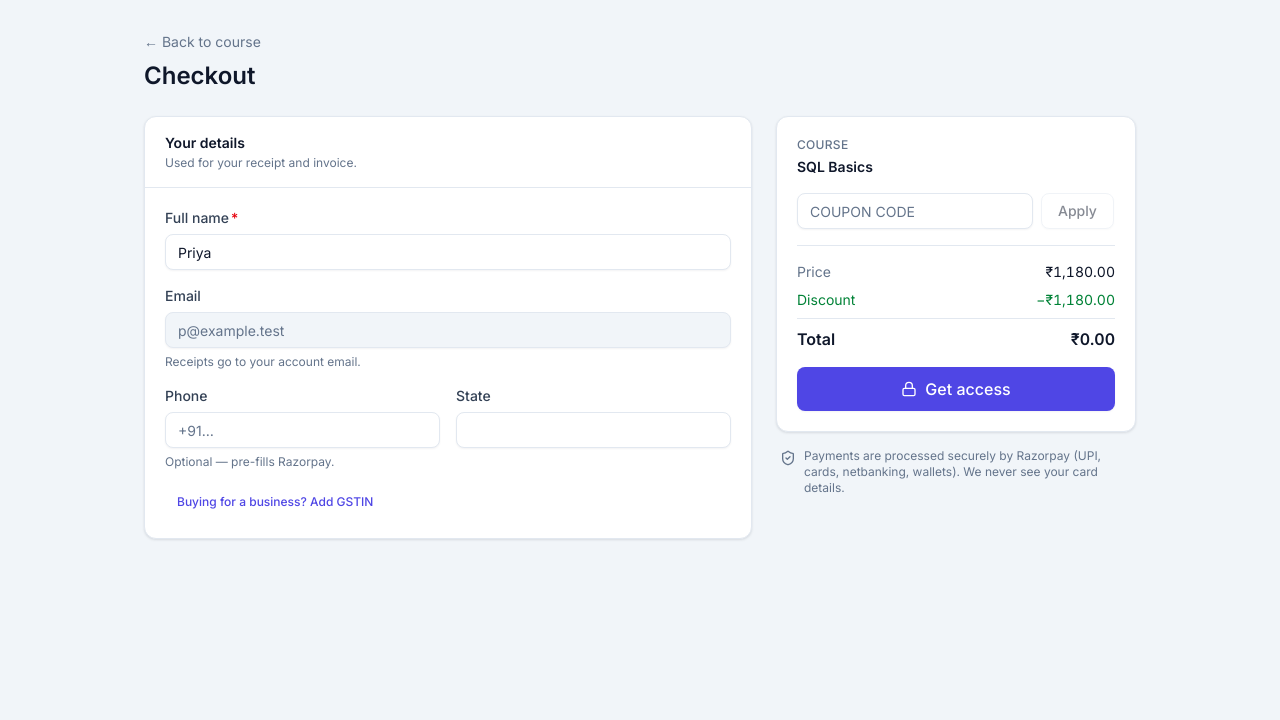
CheckoutPage › completes a free (100% coupon) order without opening Razorpay
The image size is (1280, 720).
Click the button "Get access" at coordinates (956, 389), box 797,367 -> 1115,411
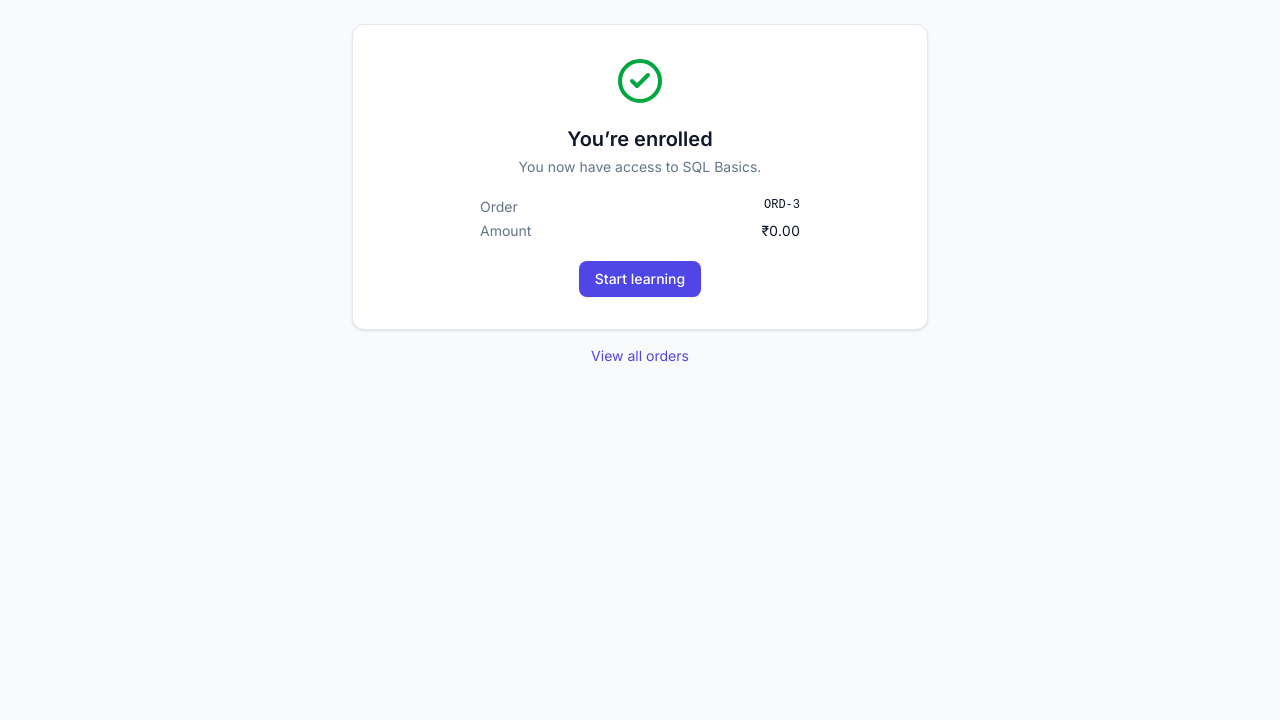
Expected: the heading "You’re enrolled" is shown, 567,127 -> 713,151
